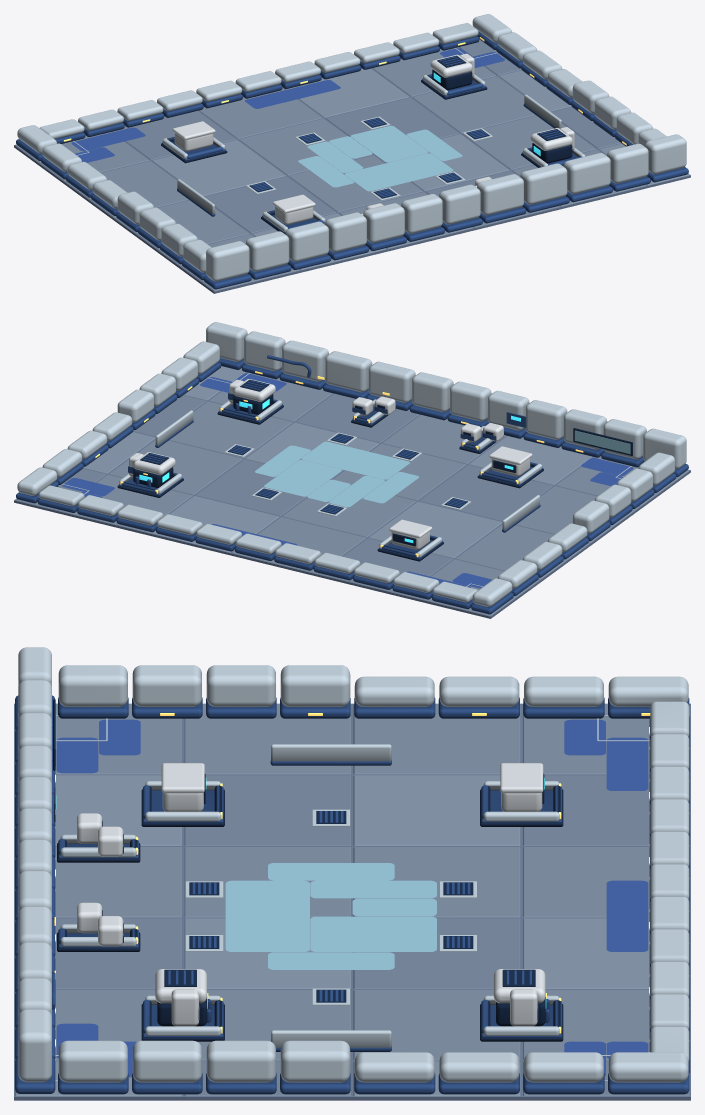
File: CryoSoftRoom_cryo-c.fbx
3 renders of one model, top to bottom at view 1: azimuth 30°, elevation 25°; view 2: azimuth 150°, elevation 25°; view 3: azimuth 270°, elevation 25°, orthographic. The views are drawn at different scales.
Parts seen in each view (by area): view 1: SC_wall_Soft_Ivory, SC_floor_Soft_Floor, SC_floor_Soft_FloorLight, SC_wall_Soft_Blue, SC_floor_Soft_FloorShade, SC_marking_Soft_Ice, SC_floor_Soft_Seam, SC_obstacle_Soft_White, SC_marking_Soft_Dock, SC_obstacle_Soft_Navy, SC_obstacle_Soft_Blue, SC_obstacle_Soft_Ivory (+4 smaller); view 2: SC_wall_Soft_Ivory, SC_floor_Soft_Floor, SC_floor_Soft_FloorShade, SC_floor_Soft_FloorLight, SC_wall_Soft_Blue, SC_marking_Soft_Ice, SC_floor_Soft_Seam, SC_obstacle_Soft_White, SC_marking_Soft_Dock, SC_obstacle_Soft_Navy, SC_obstacle_Soft_Blue, SC_obstacle_Soft_Ivory (+5 smaller); view 3: SC_floor_Soft_Floor, SC_wall_Soft_Ivory, SC_floor_Soft_FloorShade, SC_floor_Soft_FloorLight, SC_wall_Soft_Blue, SC_marking_Soft_Ice, SC_marking_Soft_Dock, SC_obstacle_Soft_White, SC_floor_Soft_Seam, SC_obstacle_Soft_Blue, SC_obstacle_Soft_Ivory, SC_obstacle_Soft_Navy (+5 smaller).
Part boxes in pixels (x1,y1,x2,y2): SC_wall_Soft_Ivory: (17, 14, 686, 281); SC_floor_Soft_Floor: (15, 47, 646, 290); SC_floor_Soft_FloorLight: (152, 68, 689, 269); SC_wall_Soft_Blue: (16, 31, 688, 289); SC_floor_Soft_FloorShade: (112, 39, 620, 233); SC_marking_Soft_Ice: (298, 125, 462, 191); SC_floor_Soft_Seam: (14, 47, 690, 293); SC_obstacle_Soft_White: (172, 53, 574, 224); SC_marking_Soft_Dock: (71, 48, 504, 162); SC_obstacle_Soft_Navy: (161, 55, 572, 234); SC_obstacle_Soft_Blue: (162, 56, 582, 233); SC_obstacle_Soft_Ivory: (162, 74, 585, 232); SC_wall_Soft_Ivory: (17, 322, 686, 606); SC_floor_Soft_Floor: (58, 372, 689, 616); SC_floor_Soft_FloorShade: (15, 393, 552, 594); SC_floor_Soft_FloorLight: (83, 366, 592, 558); SC_wall_Soft_Blue: (16, 355, 688, 614); SC_marking_Soft_Ice: (255, 441, 418, 507); SC_floor_Soft_Seam: (14, 372, 690, 618); SC_obstacle_Soft_White: (129, 379, 532, 549); SC_marking_Soft_Dock: (62, 373, 633, 588); SC_obstacle_Soft_Navy: (117, 379, 543, 561); SC_obstacle_Soft_Blue: (118, 380, 542, 558); SC_obstacle_Soft_Ivory: (119, 399, 542, 557); SC_floor_Soft_Floor: (55, 703, 689, 1060); SC_wall_Soft_Ivory: (18, 647, 689, 1082); SC_floor_Soft_FloorShade: (55, 775, 689, 1096); SC_floor_Soft_FloorLight: (15, 775, 649, 1096); SC_wall_Soft_Blue: (15, 695, 689, 1094); SC_marking_Soft_Ice: (225, 863, 436, 969); SC_marking_Soft_Dock: (56, 719, 648, 1077); SC_obstacle_Soft_White: (77, 763, 545, 1026); SC_floor_Soft_Seam: (14, 703, 690, 1100); SC_obstacle_Soft_Blue: (58, 785, 561, 1037); SC_obstacle_Soft_Ivory: (60, 781, 559, 1035); SC_obstacle_Soft_Navy: (57, 773, 563, 1041).
Size of the model in its own units: 4400 by 334 by 3200.
